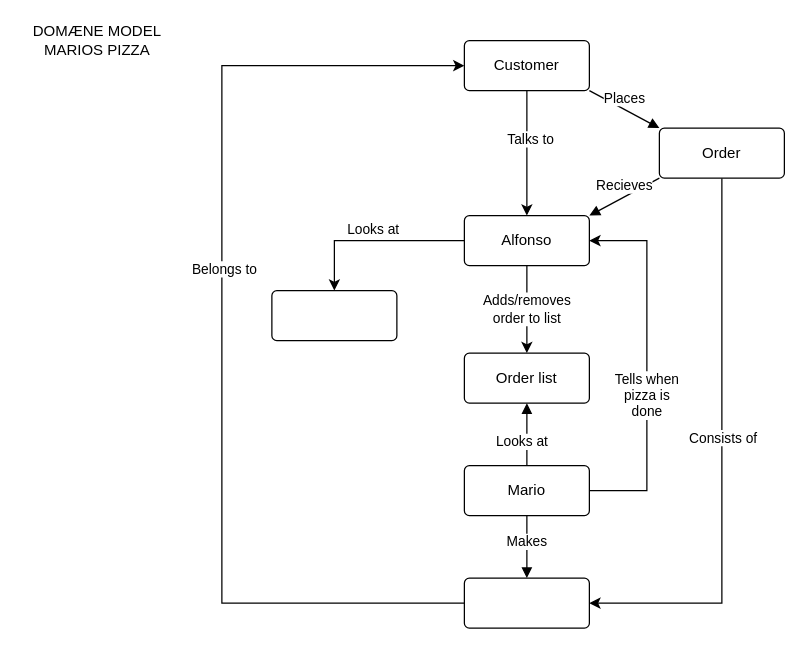
Some shapes in this 806 by 650 pixel diagram are drawn without their labels. The box of each missing label's shape, as (x1, y1, x2, y2) in pixels:
Menu: (271, 289, 397, 341)
Pizza: (463, 577, 589, 628)
